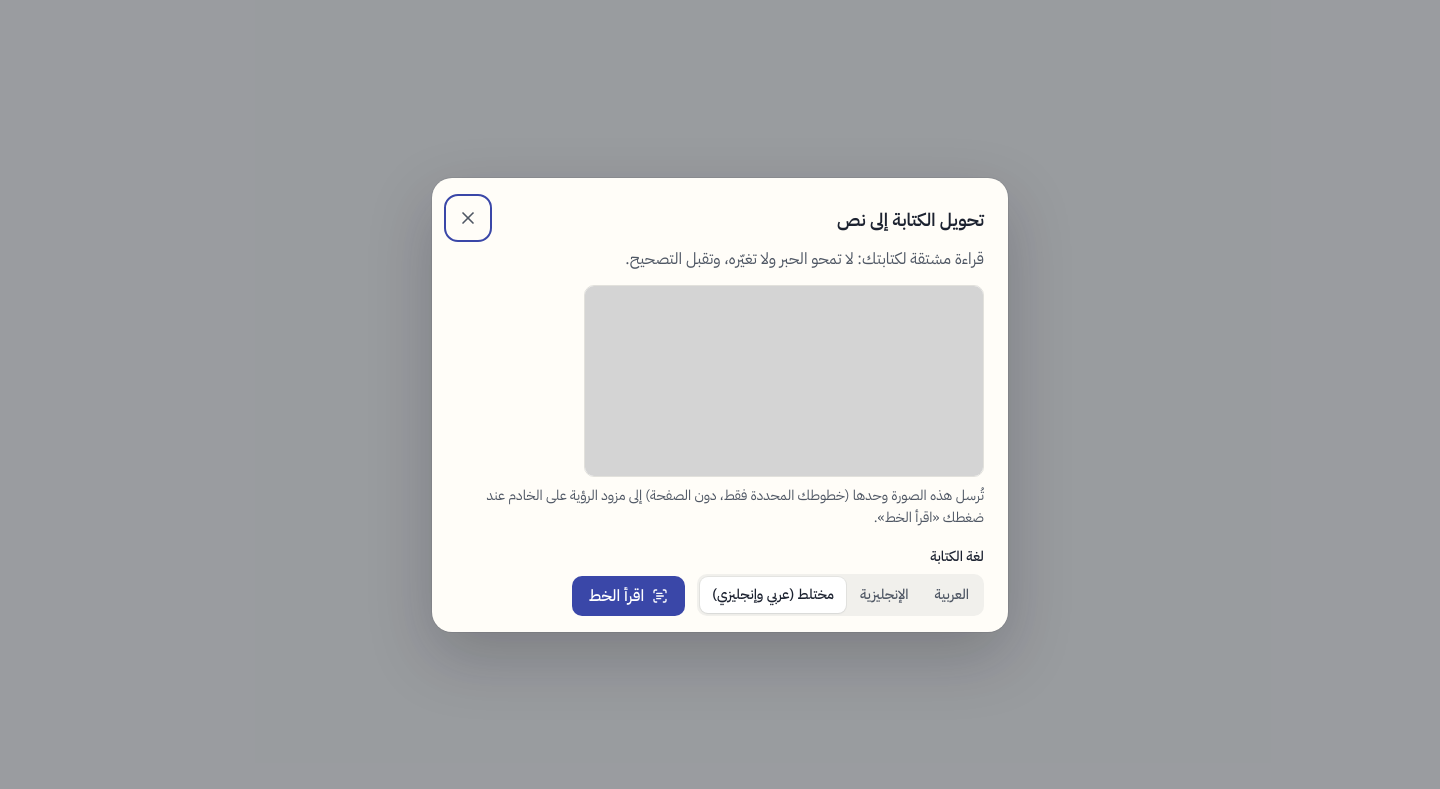
Test case: «تحويل إلى نص» › shows the exact picture, reads it, marks uncertain words, and saves a correction beside the machine reading
Click the button "اقرأ الخط" at [628, 596], box [572,576,685,616]
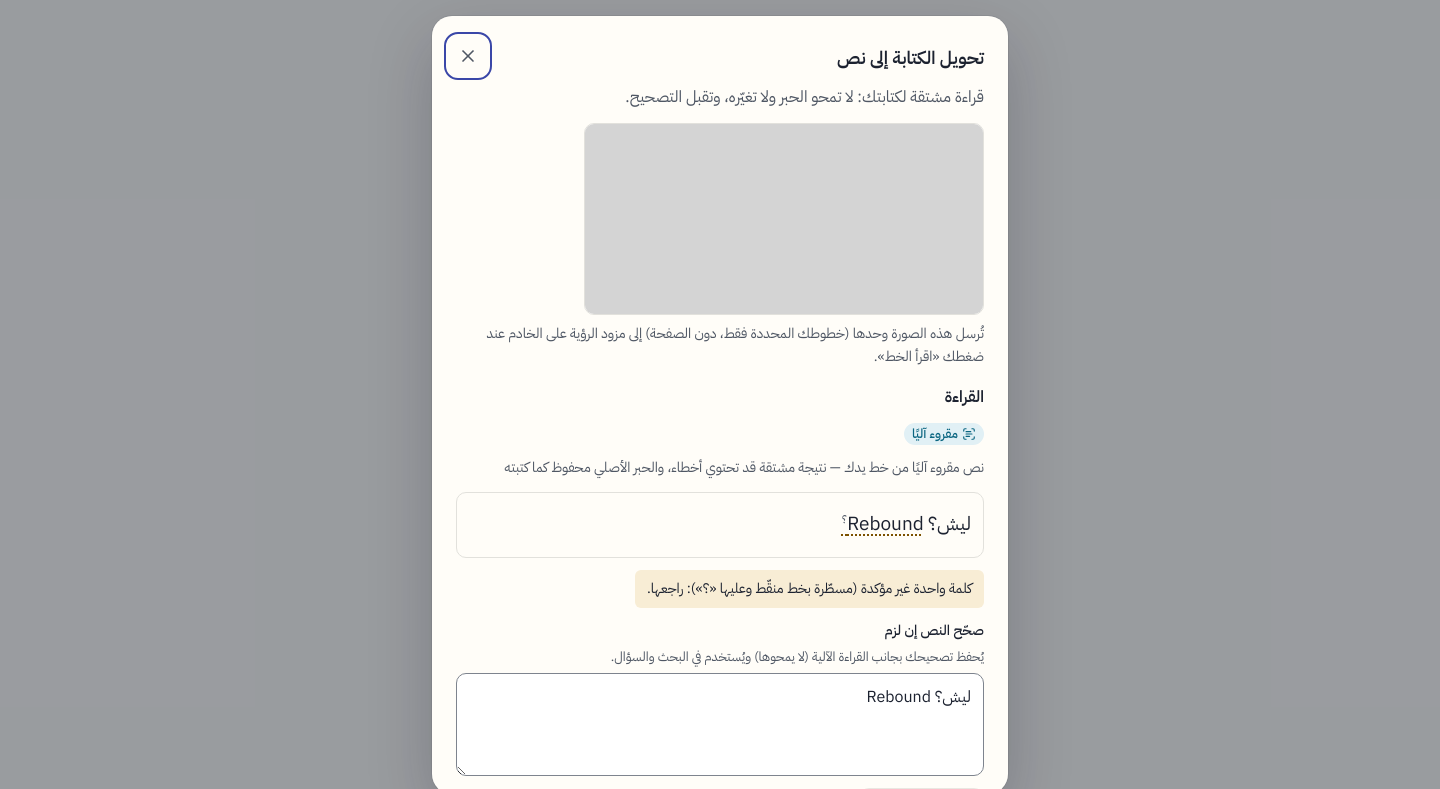
Result: the text "مقروء آليًا" is shown at [912,424,958,444]
Result: the text "كلمة واحدة غير مؤكدة (مسطّرة بخط منقّط وعليها «؟»): راجعها." is shown at [635,570,984,608]
Result: the text box labelled "صحّح النص إن لزم" holds "ليش؟ Rebound"
Replace the text in the text box labelled "صحّح النص إن لزم" with "ليش؟ Rebound tenderness" at [720, 724], box [456,673,984,776]
(page scrolled)
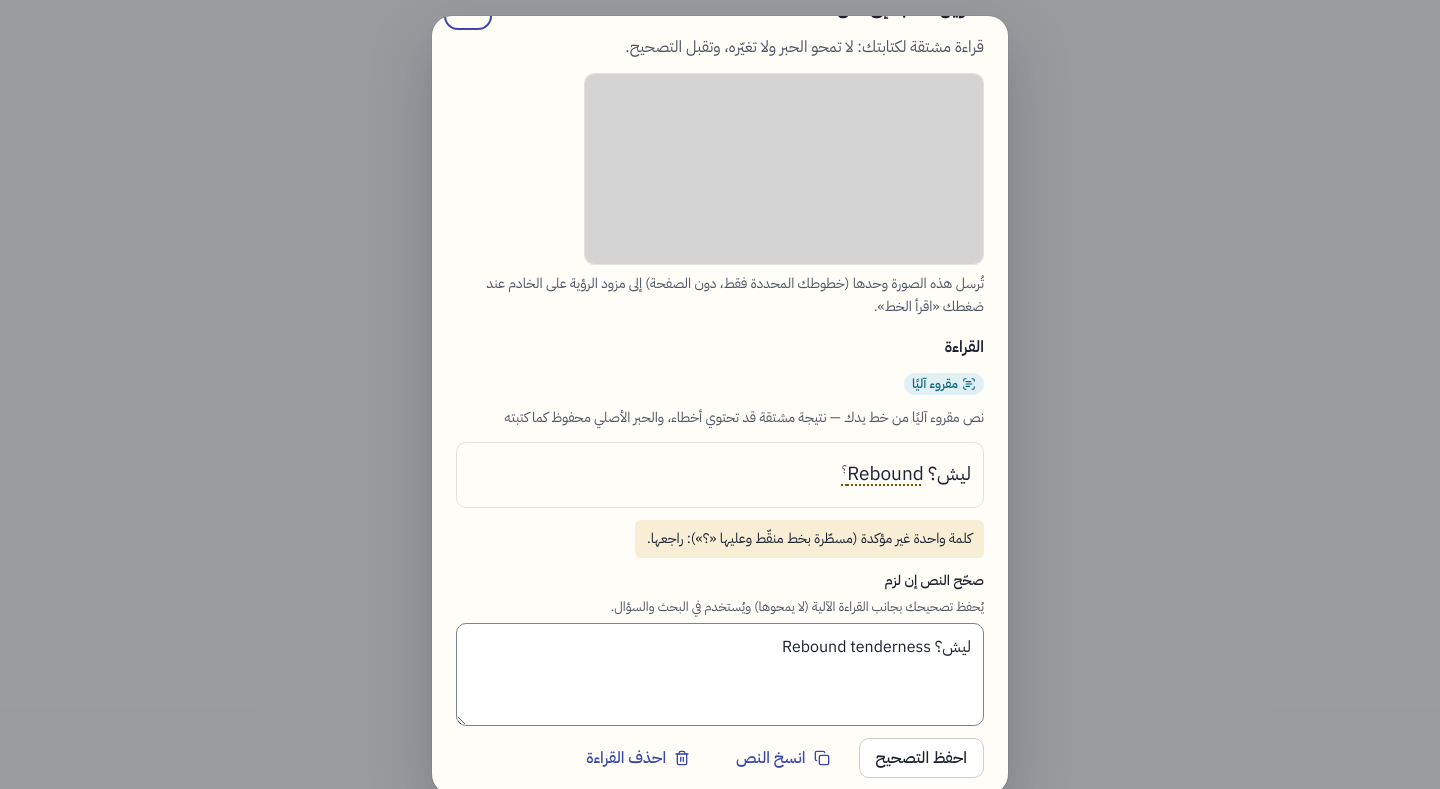
Click the button "احفظ التصحيح" at [921, 758], box [858,738,984,778]
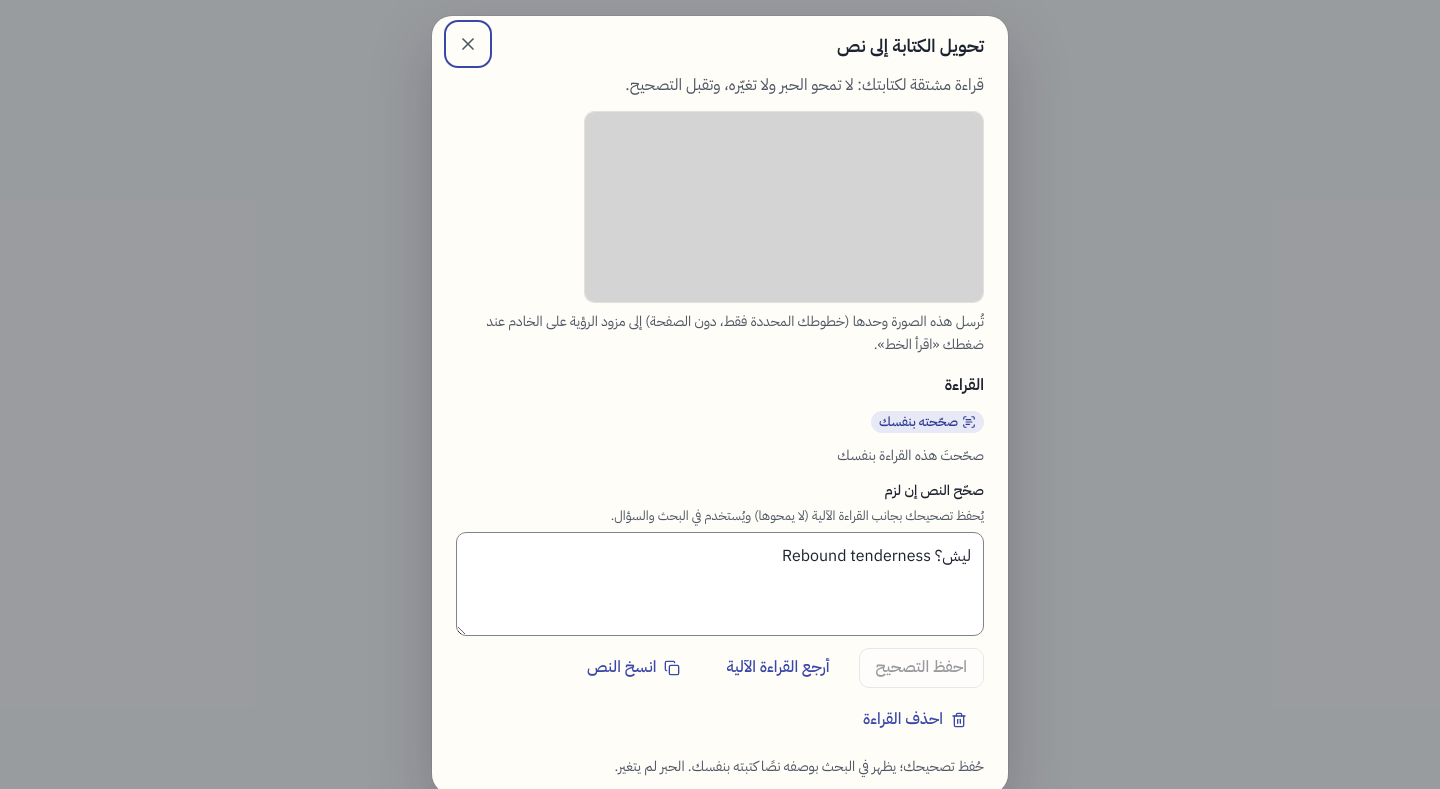
Result: the text "صحّحته بنفسك" is shown at [879,412,958,432]
Result: the text "حُفظ تصحيحك؛ يظهر في البحث بوصفه نصًا كتبته بنفسك. الحبر لم يتغير." is shown at [614,756,984,777]
